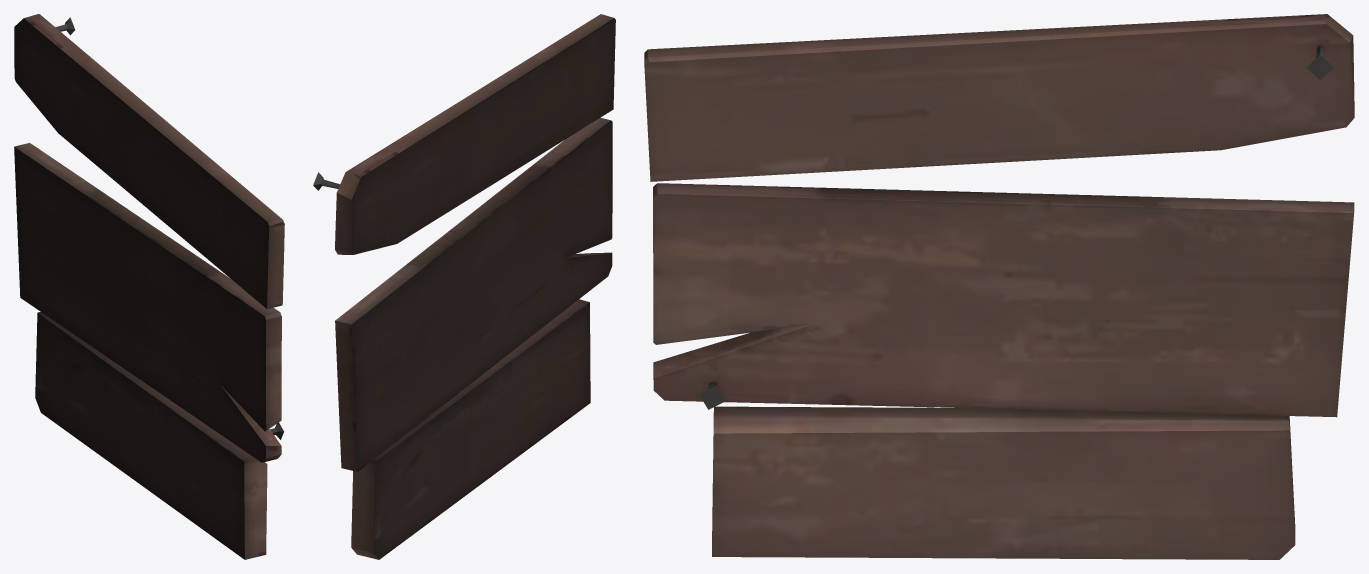
The picture shows the model from 3 angles, left to right: view 1: azimuth 30°, elevation 25°; view 2: azimuth 150°, elevation 25°; view 3: azimuth 270°, elevation 25°; orthographic projection. The views are drawn at different scales.
Visible parts, largest first — view 1: body0_model0_lod0_mesh0; view 2: body0_model0_lod0_mesh0; view 3: body0_model0_lod0_mesh0.
Part boxes in pixels (<box>): body0_model0_lod0_mesh0: <box>14,14,284,559</box>; body0_model0_lod0_mesh0: <box>313,14,615,559</box>; body0_model0_lod0_mesh0: <box>644,14,1354,559</box>.
Bounding box in the file's own units: 7.7 × 64.08 × 77.25.
Materials: 1 (1 with a texture image).
